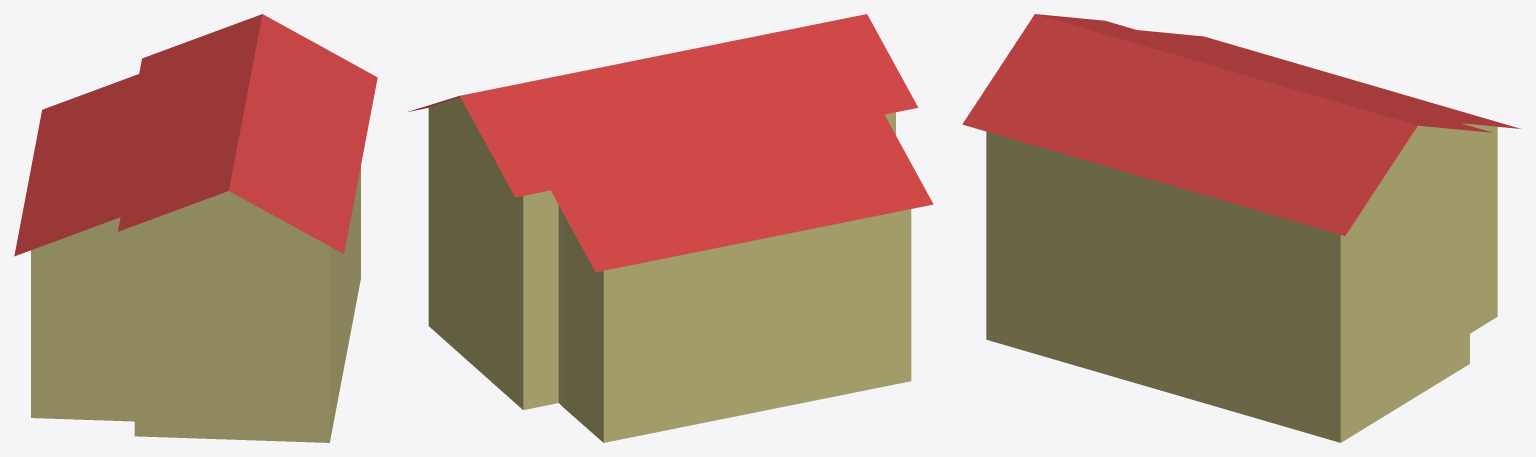
The picture shows the model from 3 angles, left to right: view 1: azimuth 30°, elevation 25°; view 2: azimuth 150°, elevation 25°; view 3: azimuth 270°, elevation 25°; orthographic projection. The views are drawn at different scales.
Size of the model in its own units: 15.78 by 16.15 by 9.01.
